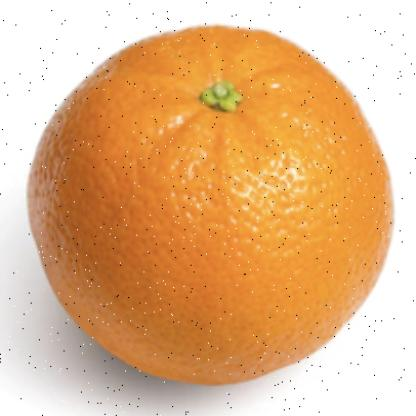fresh: (28, 24, 392, 381)
